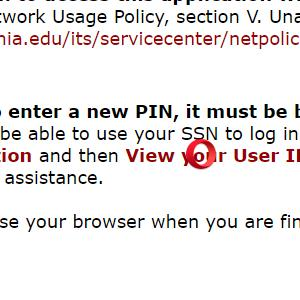opera: (186, 138, 216, 169)
